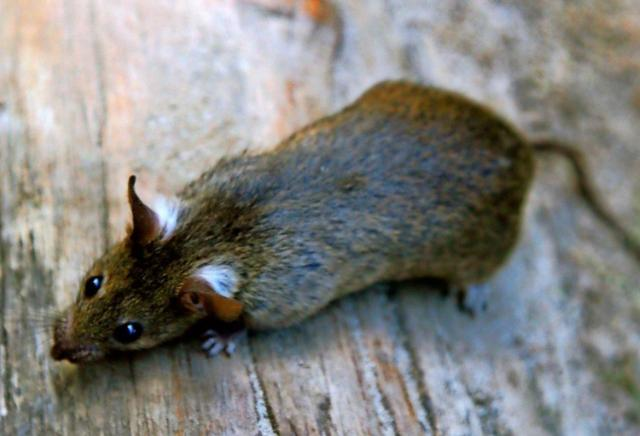rat: (39, 63, 568, 378)
